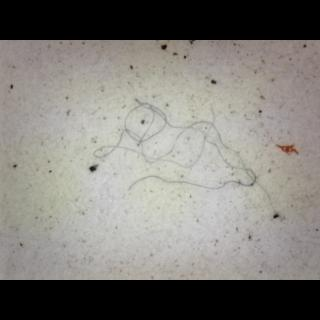Microplastic: (84, 84, 286, 234)
